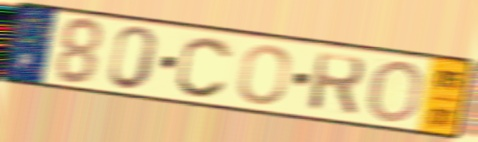0: (107, 24, 162, 93)
8: (52, 15, 107, 87)
C: (174, 34, 236, 101)
O: (364, 57, 426, 125), (235, 43, 293, 107)
R: (305, 50, 368, 119)
